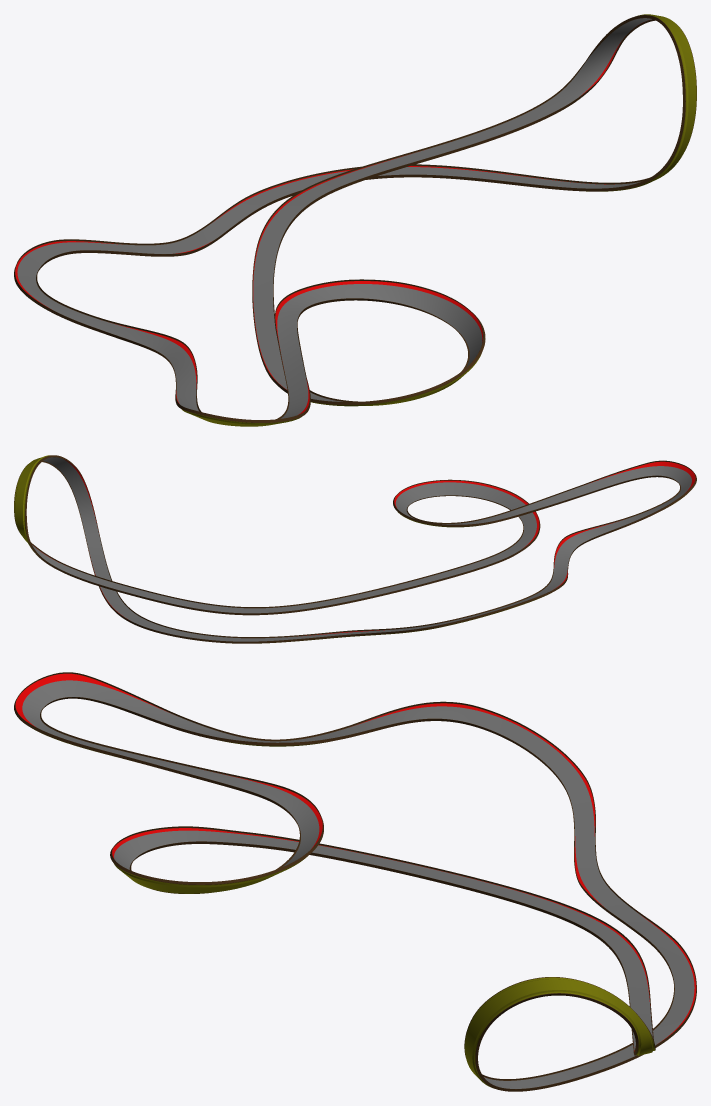
The model's file is RoadMesh.fbx.
The picture shows the model from 3 angles, top to bottom: view 1: azimuth 30°, elevation 25°; view 2: azimuth 150°, elevation 25°; view 3: azimuth 270°, elevation 25°; orthographic projection. The views are drawn at different scales.
Parts seen in each view (by area): view 1: OUTPUT_GEO; view 2: OUTPUT_GEO; view 3: OUTPUT_GEO.
Part boxes in pixels (x1,y1,x2,y2): OUTPUT_GEO: (14, 14, 696, 426); OUTPUT_GEO: (14, 455, 696, 643); OUTPUT_GEO: (14, 672, 696, 1091).
Bounding box in the file's own units: 510 × 101 × 416.
